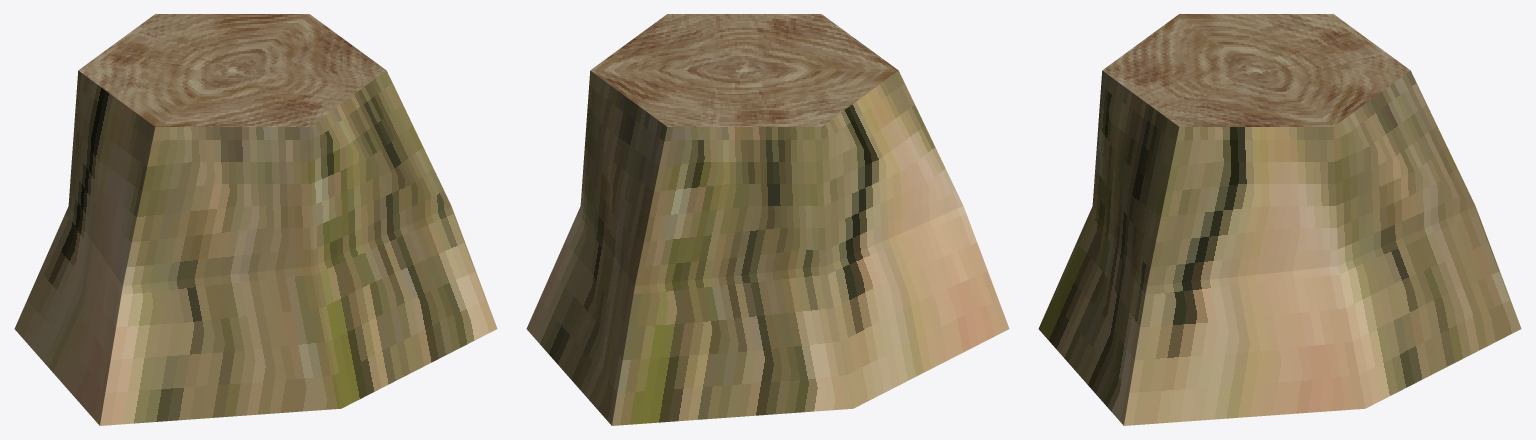
The model's file is Tree_Stump_A1.fbx.
The picture shows the model from 3 angles, left to right: view 1: azimuth 30°, elevation 25°; view 2: azimuth 150°, elevation 25°; view 3: azimuth 270°, elevation 25°; orthographic projection.
Visible parts, largest first — view 1: Tree_Stump_A1; view 2: Tree_Stump_A1; view 3: Tree_Stump_A1.
Boxes of the visible parts, bbox=[...] form: Tree_Stump_A1: bbox=[14, 14, 497, 425]; Tree_Stump_A1: bbox=[526, 14, 1009, 425]; Tree_Stump_A1: bbox=[1038, 14, 1521, 425].
Bounding box in the file's own units: 0.8484 × 0.5271 × 0.8927.
